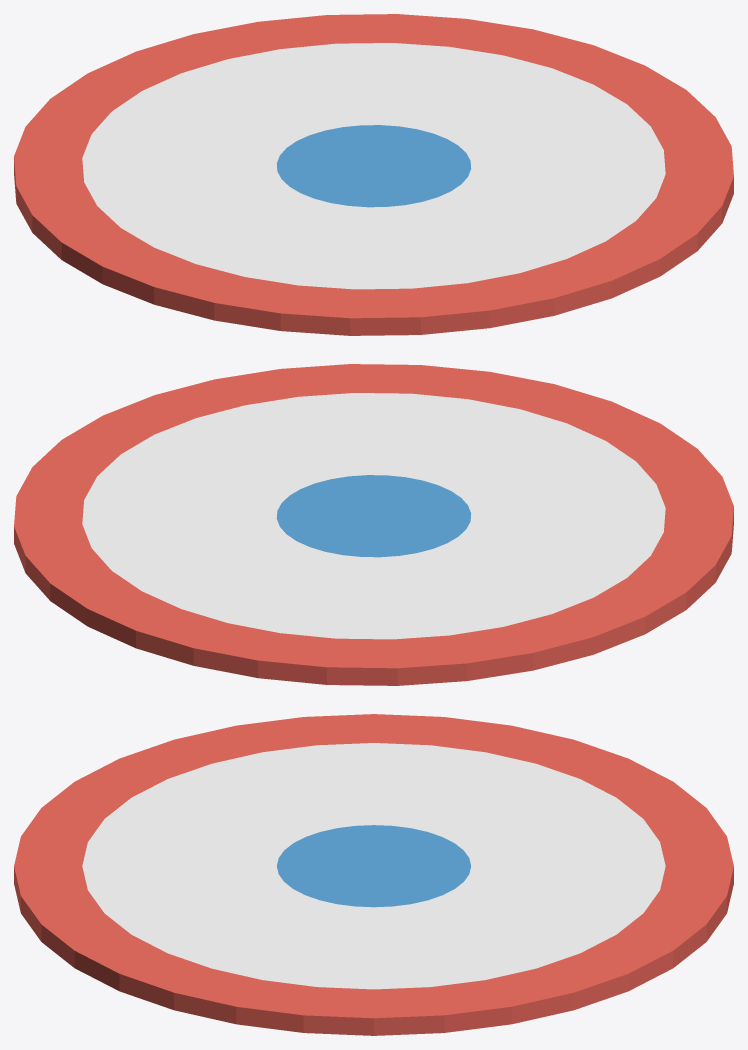
File: Ring.fbx
3 renders of one model, top to bottom at view 1: azimuth 30°, elevation 25°; view 2: azimuth 150°, elevation 25°; view 3: azimuth 270°, elevation 25°, orthographic.
Visible parts, largest first — view 1: Cylinder; view 2: Cylinder; view 3: Cylinder.
Part boxes in pixels (box(x1,y1,x2,y2)): Cylinder: box(14, 14, 733, 335); Cylinder: box(14, 364, 733, 685); Cylinder: box(14, 714, 733, 1035).
Bounding box in the file's own units: 3702 × 100 × 3702.
